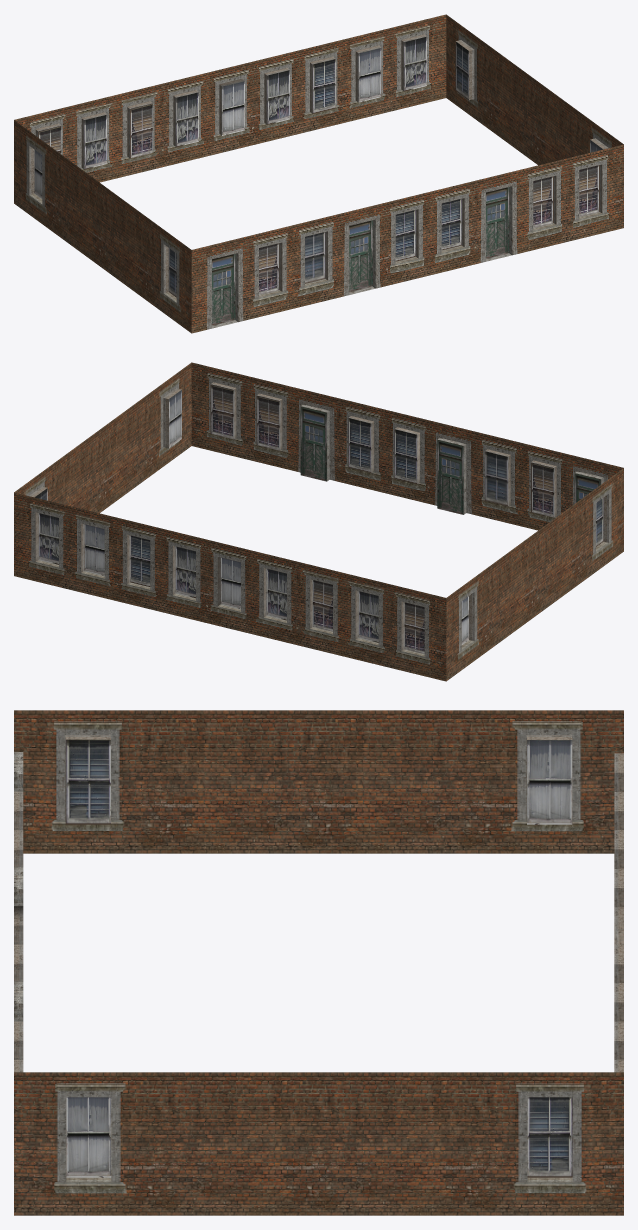
Rendered from Build5_el3_LOD1.fbx.
3 renders of one model, top to bottom at view 1: azimuth 30°, elevation 25°; view 2: azimuth 150°, elevation 25°; view 3: azimuth 270°, elevation 25°, orthographic. The views are drawn at different scales.
Visible parts, largest first — view 1: polySurface83; view 2: polySurface83; view 3: polySurface83.
Part boxes in pixels (x1,y1,x2,y2): polySurface83: [14, 14, 623, 333]; polySurface83: [14, 362, 623, 681]; polySurface83: [14, 710, 623, 1215].
Size of the model in its own units: 16.23 by 3 by 11.55.
